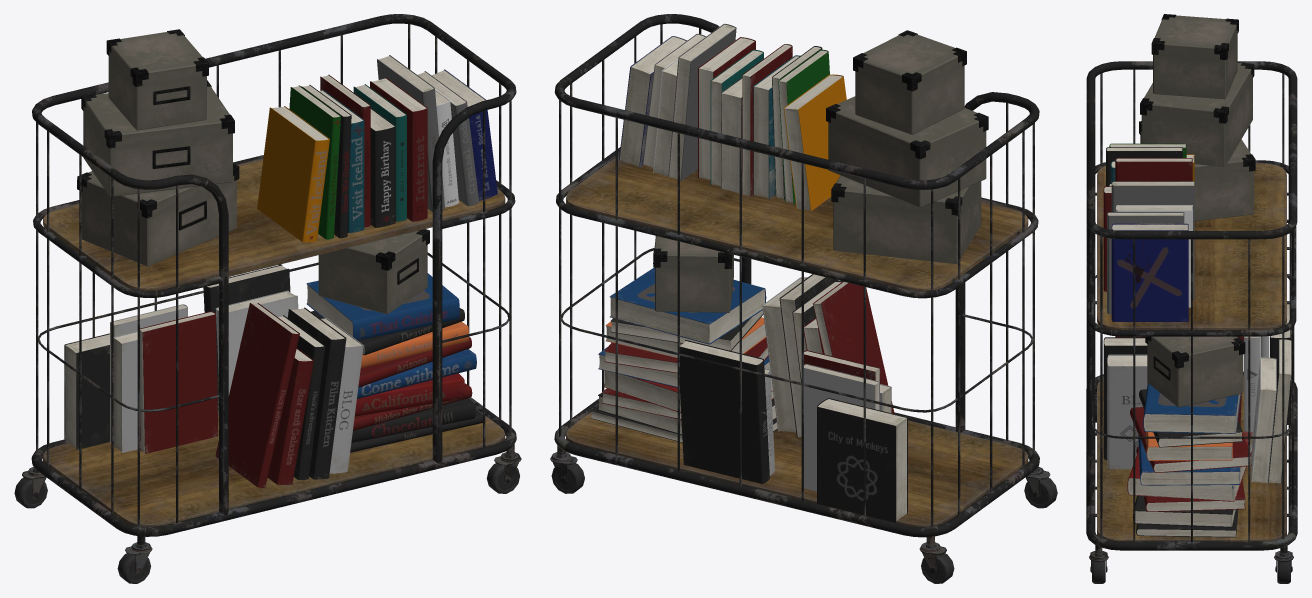
File: iron_art_storage_bookshelf.4f8bd902.glb
3 views of the same model, side by side, from view 1: azimuth 30°, elevation 25°; view 2: azimuth 150°, elevation 25°; view 3: azimuth 270°, elevation 25° (orthographic). The views are drawn at different scales.
Parts seen in each view (by area): view 1: object 7, AM205_010_02_6, AM205_010_03_5, object 4, AM205_010_07_1, AM205_010_05_3, object 2; view 2: object 7, AM205_010_02_6, AM205_010_03_5, AM205_010_07_1, AM205_010_05_3, object 2, object 4; view 3: object 7, AM205_010_02_6, AM205_010_05_3, object 2, AM205_010_03_5, object 4, AM205_010_07_1.
Boxes of the visible parts, box(x1,y1,x2,y2) form: object 7: box(14, 14, 521, 583); AM205_010_02_6: box(77, 29, 429, 314); AM205_010_03_5: box(64, 264, 298, 453); object 4: box(215, 303, 363, 487); AM205_010_07_1: box(257, 74, 395, 242); AM205_010_05_3: box(306, 273, 482, 452); object 2: box(353, 55, 497, 221); object 7: box(550, 14, 1057, 583); AM205_010_02_6: box(653, 30, 988, 312); AM205_010_03_5: box(680, 340, 907, 522); AM205_010_07_1: box(721, 44, 846, 210); AM205_010_05_3: box(590, 267, 777, 442); object 2: box(619, 23, 763, 186); object 4: box(762, 274, 894, 437); object 7: box(1086, 61, 1297, 583); AM205_010_02_6: box(1139, 14, 1255, 407); AM205_010_05_3: box(1127, 383, 1252, 537); object 2: box(1103, 181, 1194, 321); AM205_010_03_5: box(1237, 304, 1291, 483); object 4: box(1103, 336, 1147, 469); AM205_010_07_1: box(1106, 143, 1194, 186).
Bounding box in the file's own units: 1.01 × 1.13 × 0.5127.
Materials: 7 (7 with a texture image).
